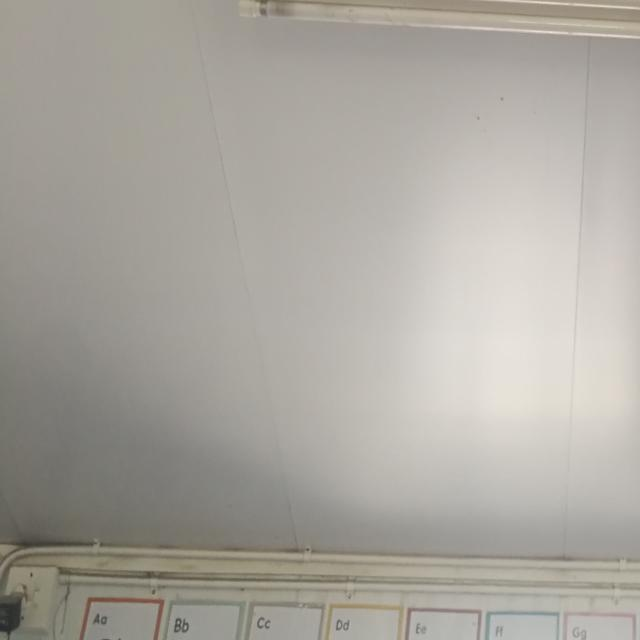fluorescent tube: (195, 0, 640, 151)
